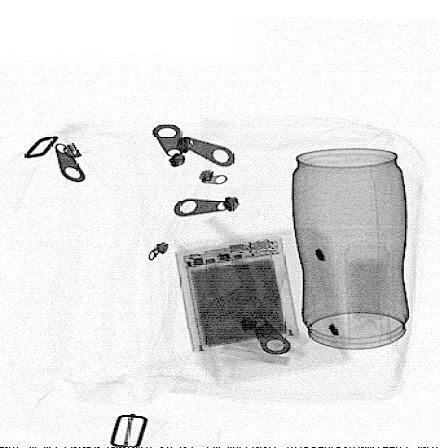Powerbank: (175, 236, 300, 353)
